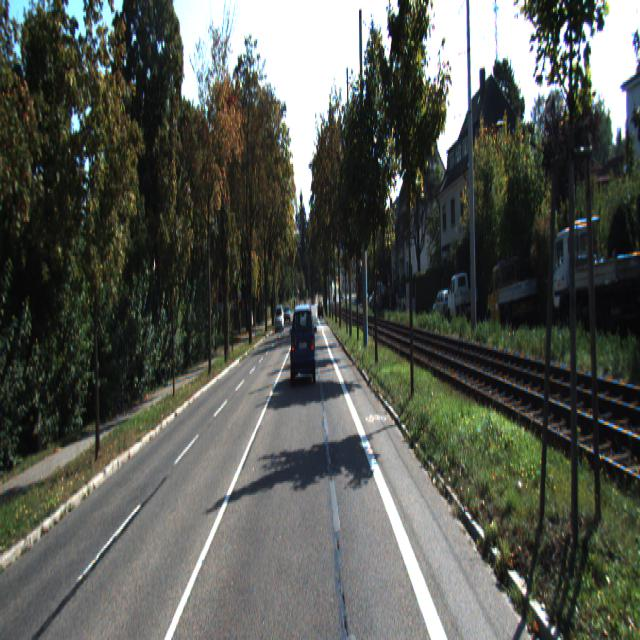Car: (552, 205, 639, 338), (486, 257, 538, 332), (289, 301, 316, 387), (447, 272, 478, 322), (434, 290, 456, 324), (275, 306, 284, 334)
